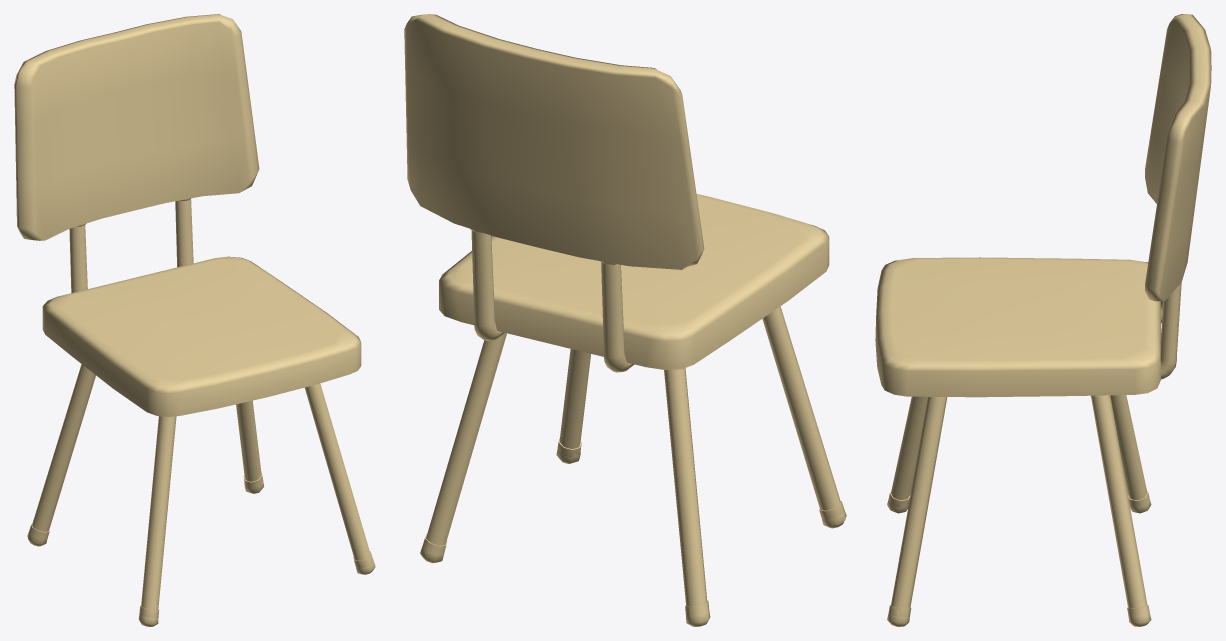
File: mdl_cafeteriachair_01.fbx
3 renders of one model, left to right at view 1: azimuth 30°, elevation 25°; view 2: azimuth 150°, elevation 25°; view 3: azimuth 270°, elevation 25°, orthographic. The views are drawn at different scales.
Parts seen in each view (by area): view 1: mdl_Cafeteriachair_01; view 2: mdl_Cafeteriachair_01; view 3: mdl_Cafeteriachair_01.
Boxes of the visible parts, x1,y1,x2,y2 form: mdl_Cafeteriachair_01: (14, 14, 375, 626); mdl_Cafeteriachair_01: (404, 14, 846, 626); mdl_Cafeteriachair_01: (875, 14, 1211, 626).
Size of the model in its own units: 46.2 by 85.4 by 51.57.
